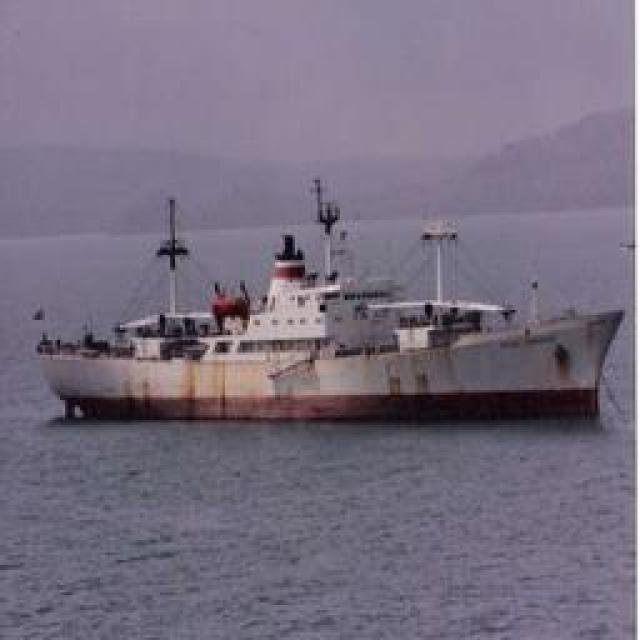Ship: (33, 190, 621, 415)
